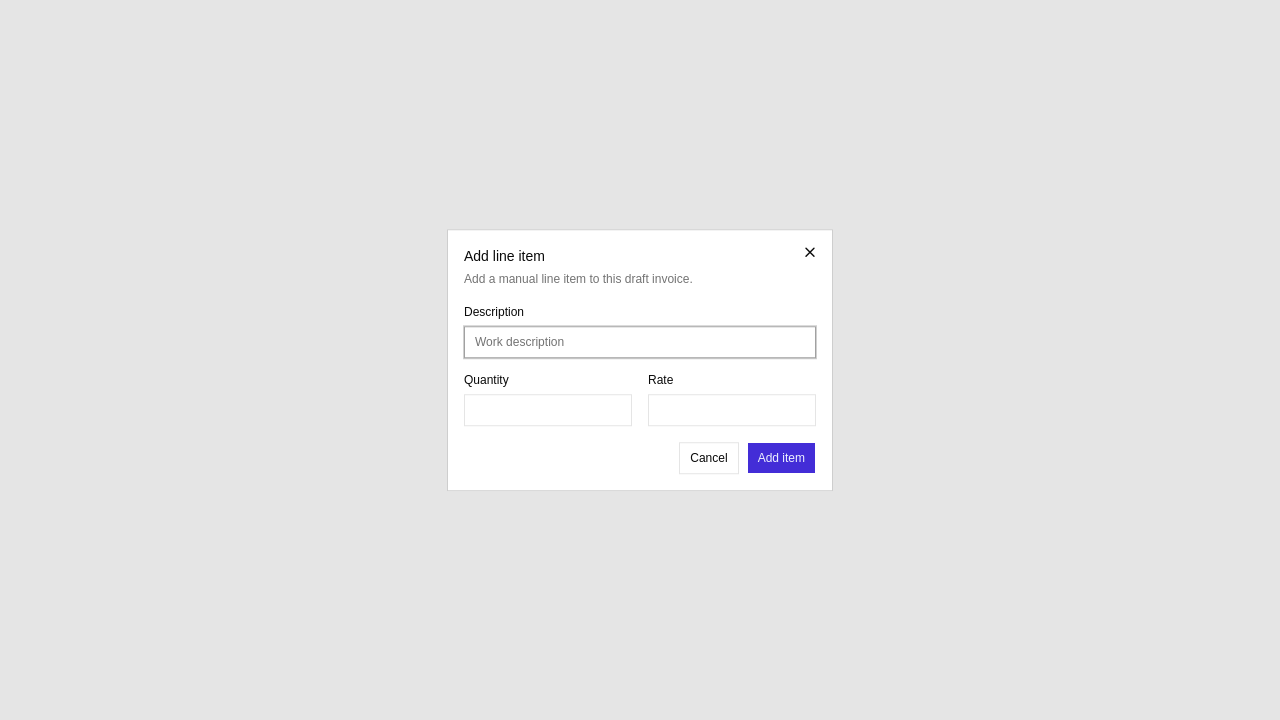
Scenario: AddInvoiceItemDialog › rejects empty description
The width and height of the screenshot is (1280, 720).
Click the button "Add item" at (781, 458), box [747,442,816,474]
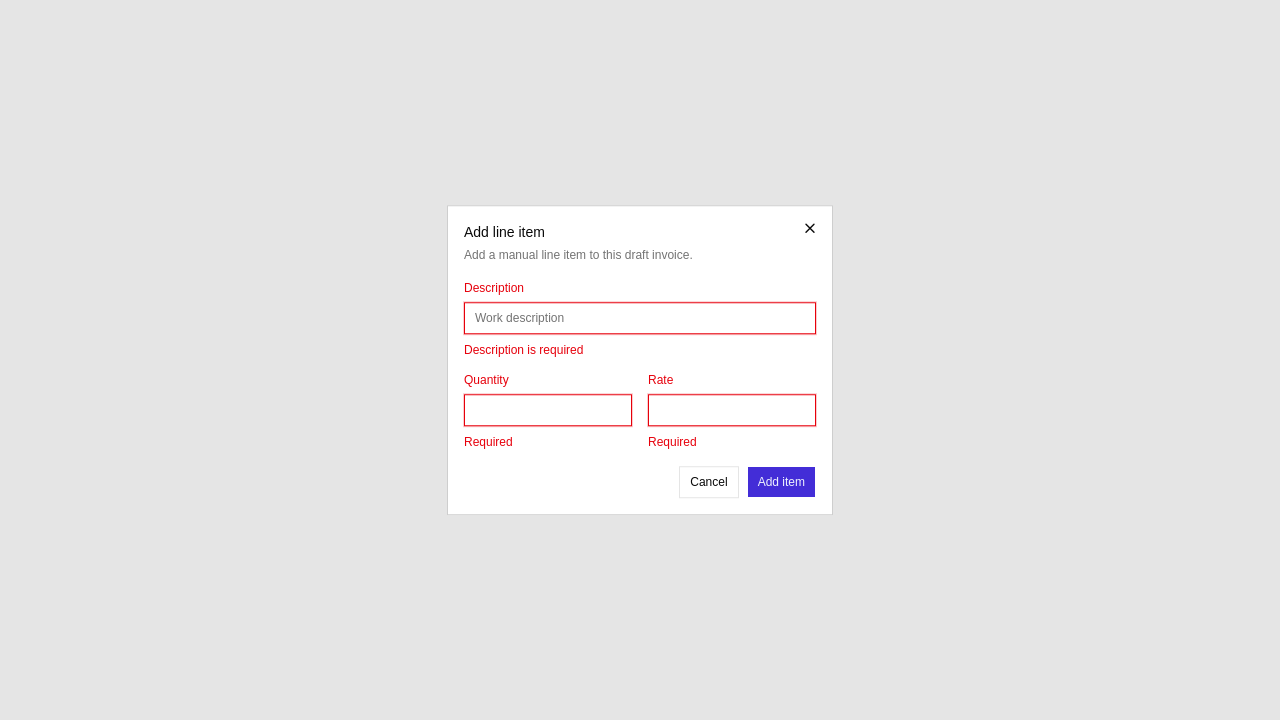
Expected: the text "Description is required" is shown, [464,343,583,357]
